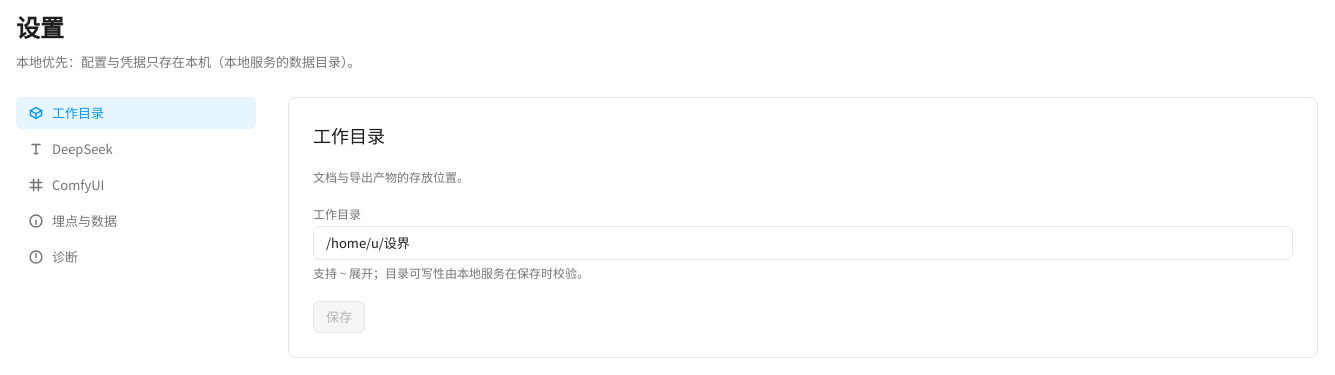
Test case: 设置页 · 工作目录与保存态 › 空值校验：内联报错、不发请求
The image size is (1335, 375).
Clear the field labelled "工作目录" at (803, 243), box 326,227 -> 1280,259
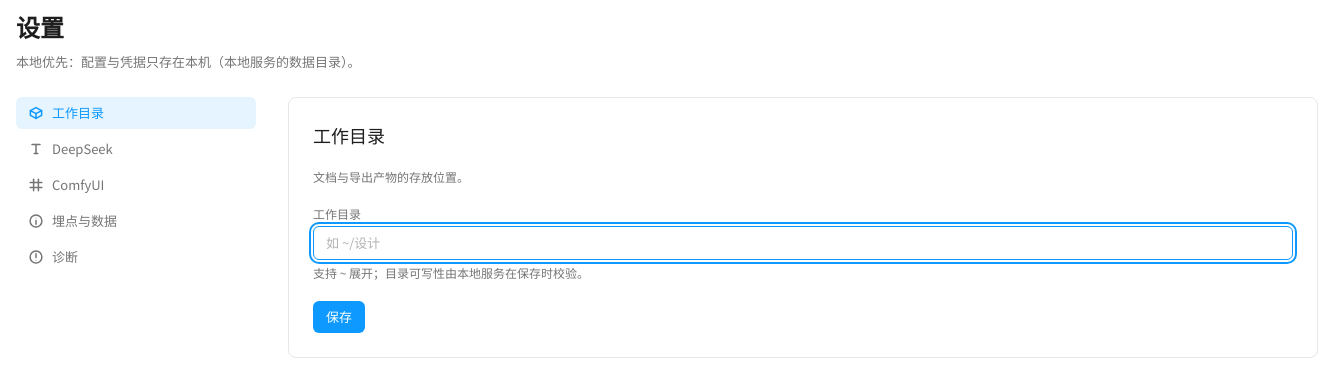
Click the button "保存" at (339, 317), box 313,301 -> 365,333
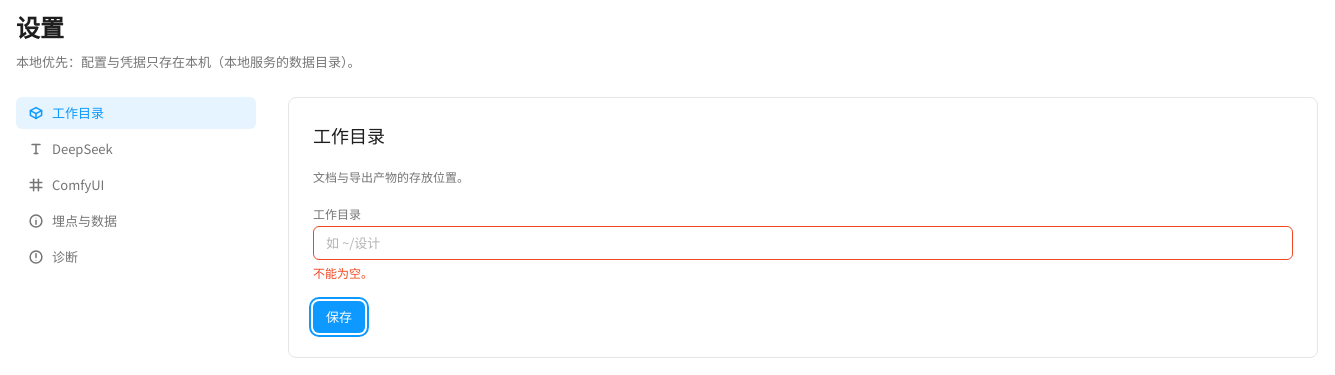
Check: the text "不能为空。" is shown, box 313,264 -> 373,281
